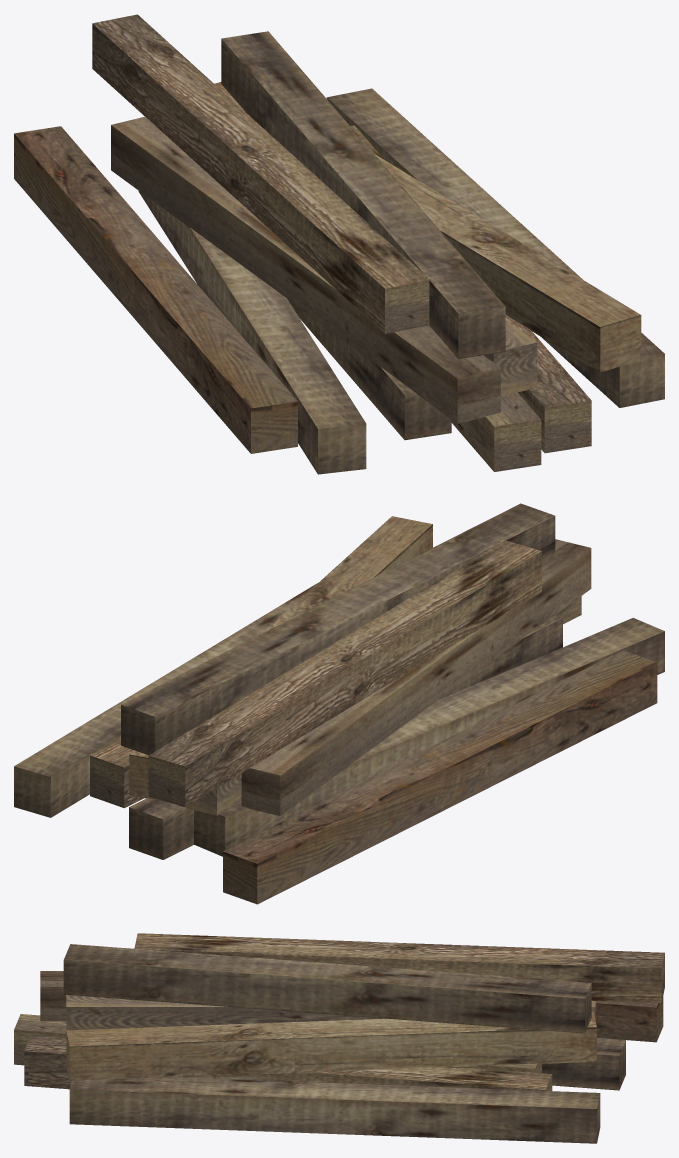
File: wood_pile.dae
3 views of the same model, one above another, from view 1: azimuth 30°, elevation 25°; view 2: azimuth 150°, elevation 25°; view 3: azimuth 270°, elevation 25° (orthographic). The views are drawn at different scales.
Visible parts, largest first — view 1: Object04; view 2: Object04; view 3: Object04.
Part boxes in pixels (box(x1,y1,x2,y2)): Object04: box(14, 14, 664, 474); Object04: box(14, 503, 664, 904); Object04: box(14, 933, 664, 1143).
Size of the model in its own units: 3.95 by 1.22 by 6.96.
